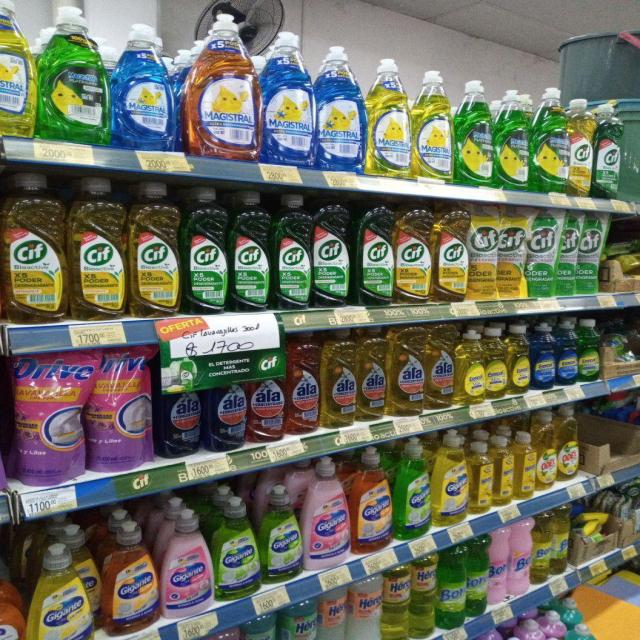ala_conc_amarillo: (321, 328, 356, 429), (388, 326, 424, 417), (357, 327, 387, 422), (425, 327, 454, 411)
ala_conc_azul: (204, 382, 247, 452), (159, 390, 202, 457)
ala_conc_rojo: (286, 330, 320, 436), (248, 378, 285, 443)
cif_conc_bot_amarilla: (2, 172, 66, 322), (68, 176, 126, 319), (128, 180, 180, 316), (395, 201, 432, 304), (433, 202, 468, 302), (570, 98, 592, 197)
cif_conc_botella_verde: (182, 186, 228, 314), (229, 189, 271, 312), (272, 192, 312, 310), (312, 197, 352, 307), (354, 199, 394, 305), (594, 100, 621, 199)
cif_conc_sachet_amarillo: (468, 202, 496, 300), (497, 204, 525, 300)
cif_conc_sachet_verde: (526, 209, 554, 297), (576, 212, 602, 294), (556, 210, 576, 296)
drive: (10, 353, 85, 482), (82, 351, 153, 468)
esencial: (453, 329, 489, 404), (576, 318, 605, 386), (484, 327, 510, 398), (511, 324, 533, 391)
gigante: (28, 531, 96, 640), (103, 516, 158, 632), (302, 456, 357, 570), (161, 506, 212, 616), (213, 494, 260, 600), (351, 445, 396, 551), (258, 482, 304, 580), (398, 434, 434, 536)
heroe: (347, 573, 382, 640), (411, 557, 440, 637), (382, 571, 410, 640), (279, 598, 317, 640), (317, 594, 343, 640), (241, 611, 277, 640), (193, 624, 241, 640)
magistral_con_amarillo: (367, 57, 411, 177), (0, 0, 36, 136), (412, 69, 452, 181)
magistral_con_azul: (112, 21, 175, 150), (264, 28, 316, 166), (310, 42, 363, 170), (531, 322, 556, 390), (557, 322, 578, 386)
magistral_con_rojo: (185, 9, 261, 160)
magistral_con_verde: (40, 2, 116, 140), (456, 76, 496, 187), (532, 87, 570, 195), (495, 87, 528, 193)
odex: (433, 431, 468, 526), (536, 411, 557, 491), (558, 406, 580, 482)
